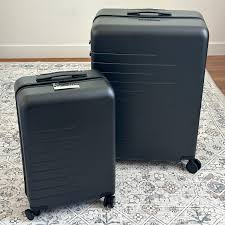suitcase: (88, 6, 210, 174), (14, 68, 118, 219)
